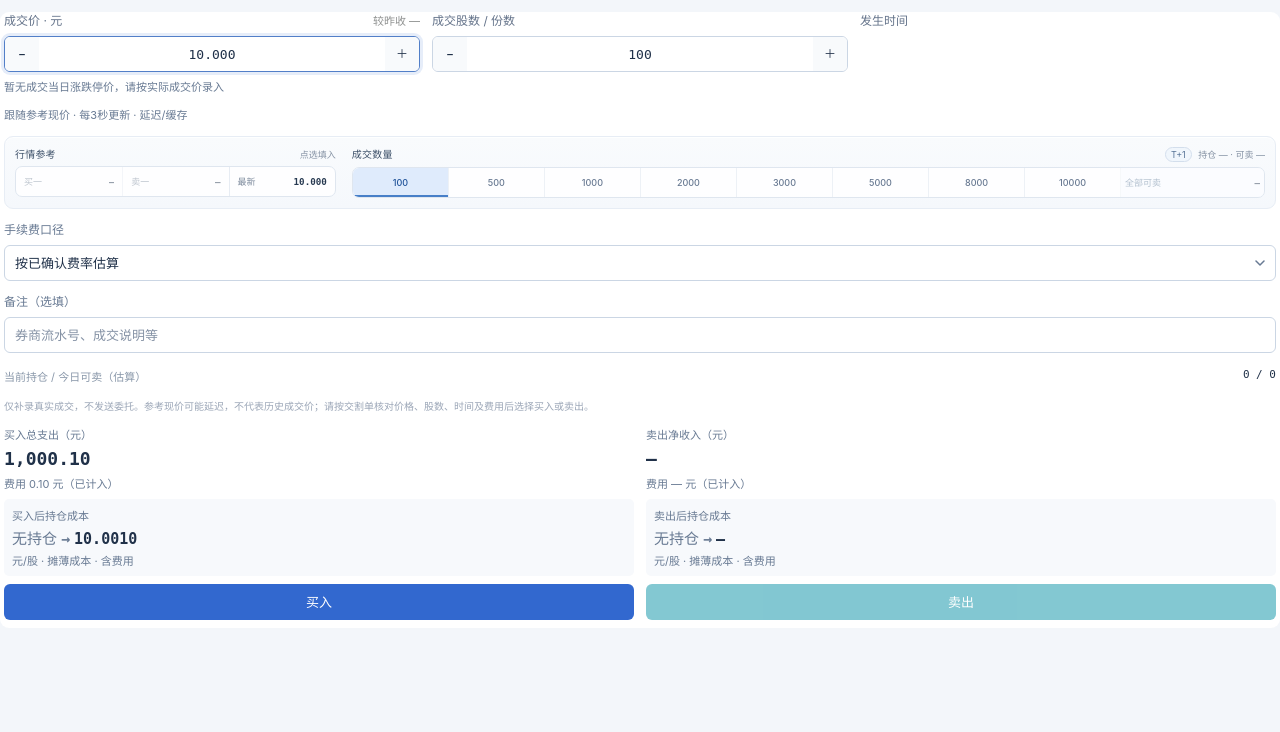
Scenario: 交易录入快捷股数随成交价格更新
This screenshot has width=1280, height=732.
Replace the text in the field with id "trade-entry-price" with "3.4" at [212, 54], box [39, 37, 385, 71]
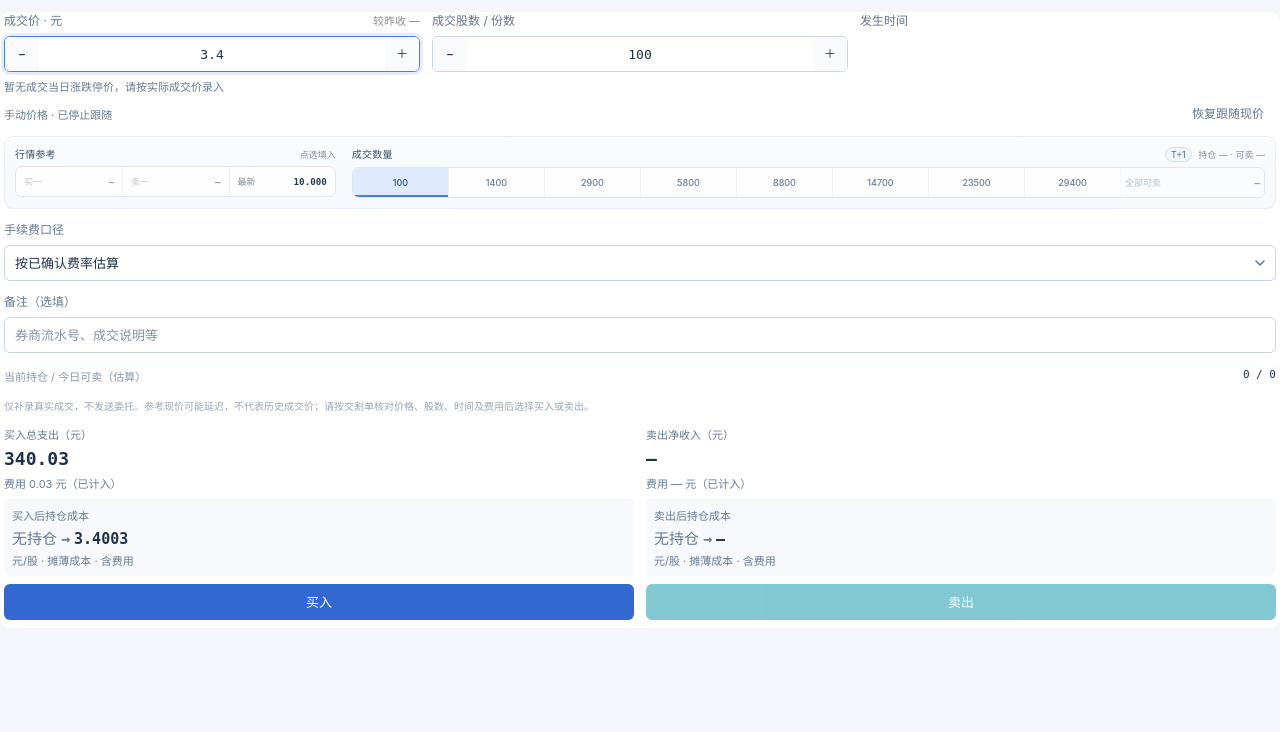
Expected: the button "29400" is shown, [1024, 168, 1120, 197]
Click the button "5800" at [688, 182], box [640, 168, 736, 197]
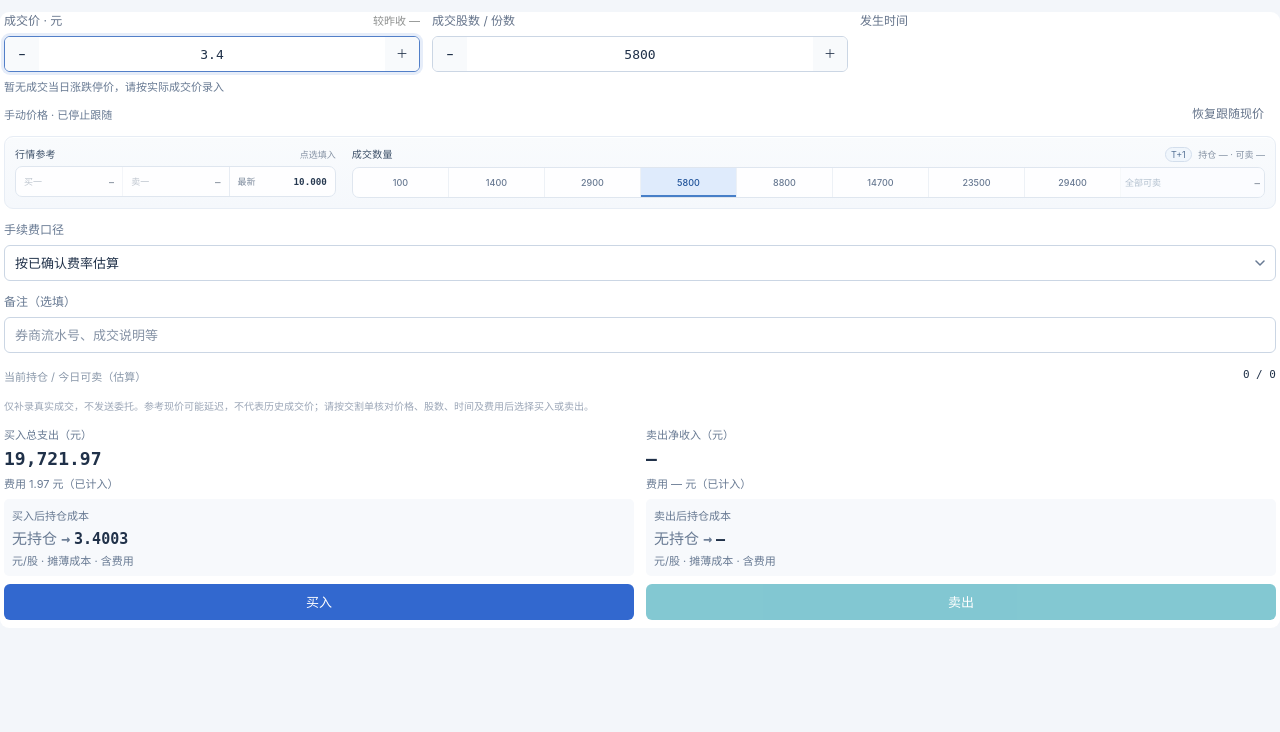
Expected: the field with id "trade-entry-quantity" holds "5800", [467, 37, 813, 71]
